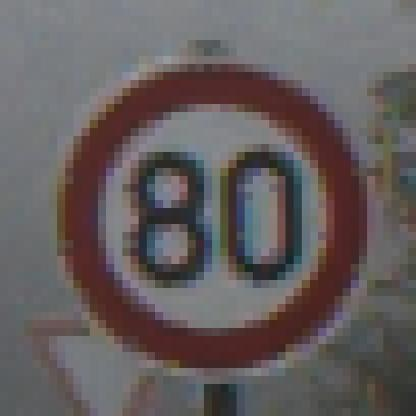Speed Limit 80: (61, 67, 368, 374)
